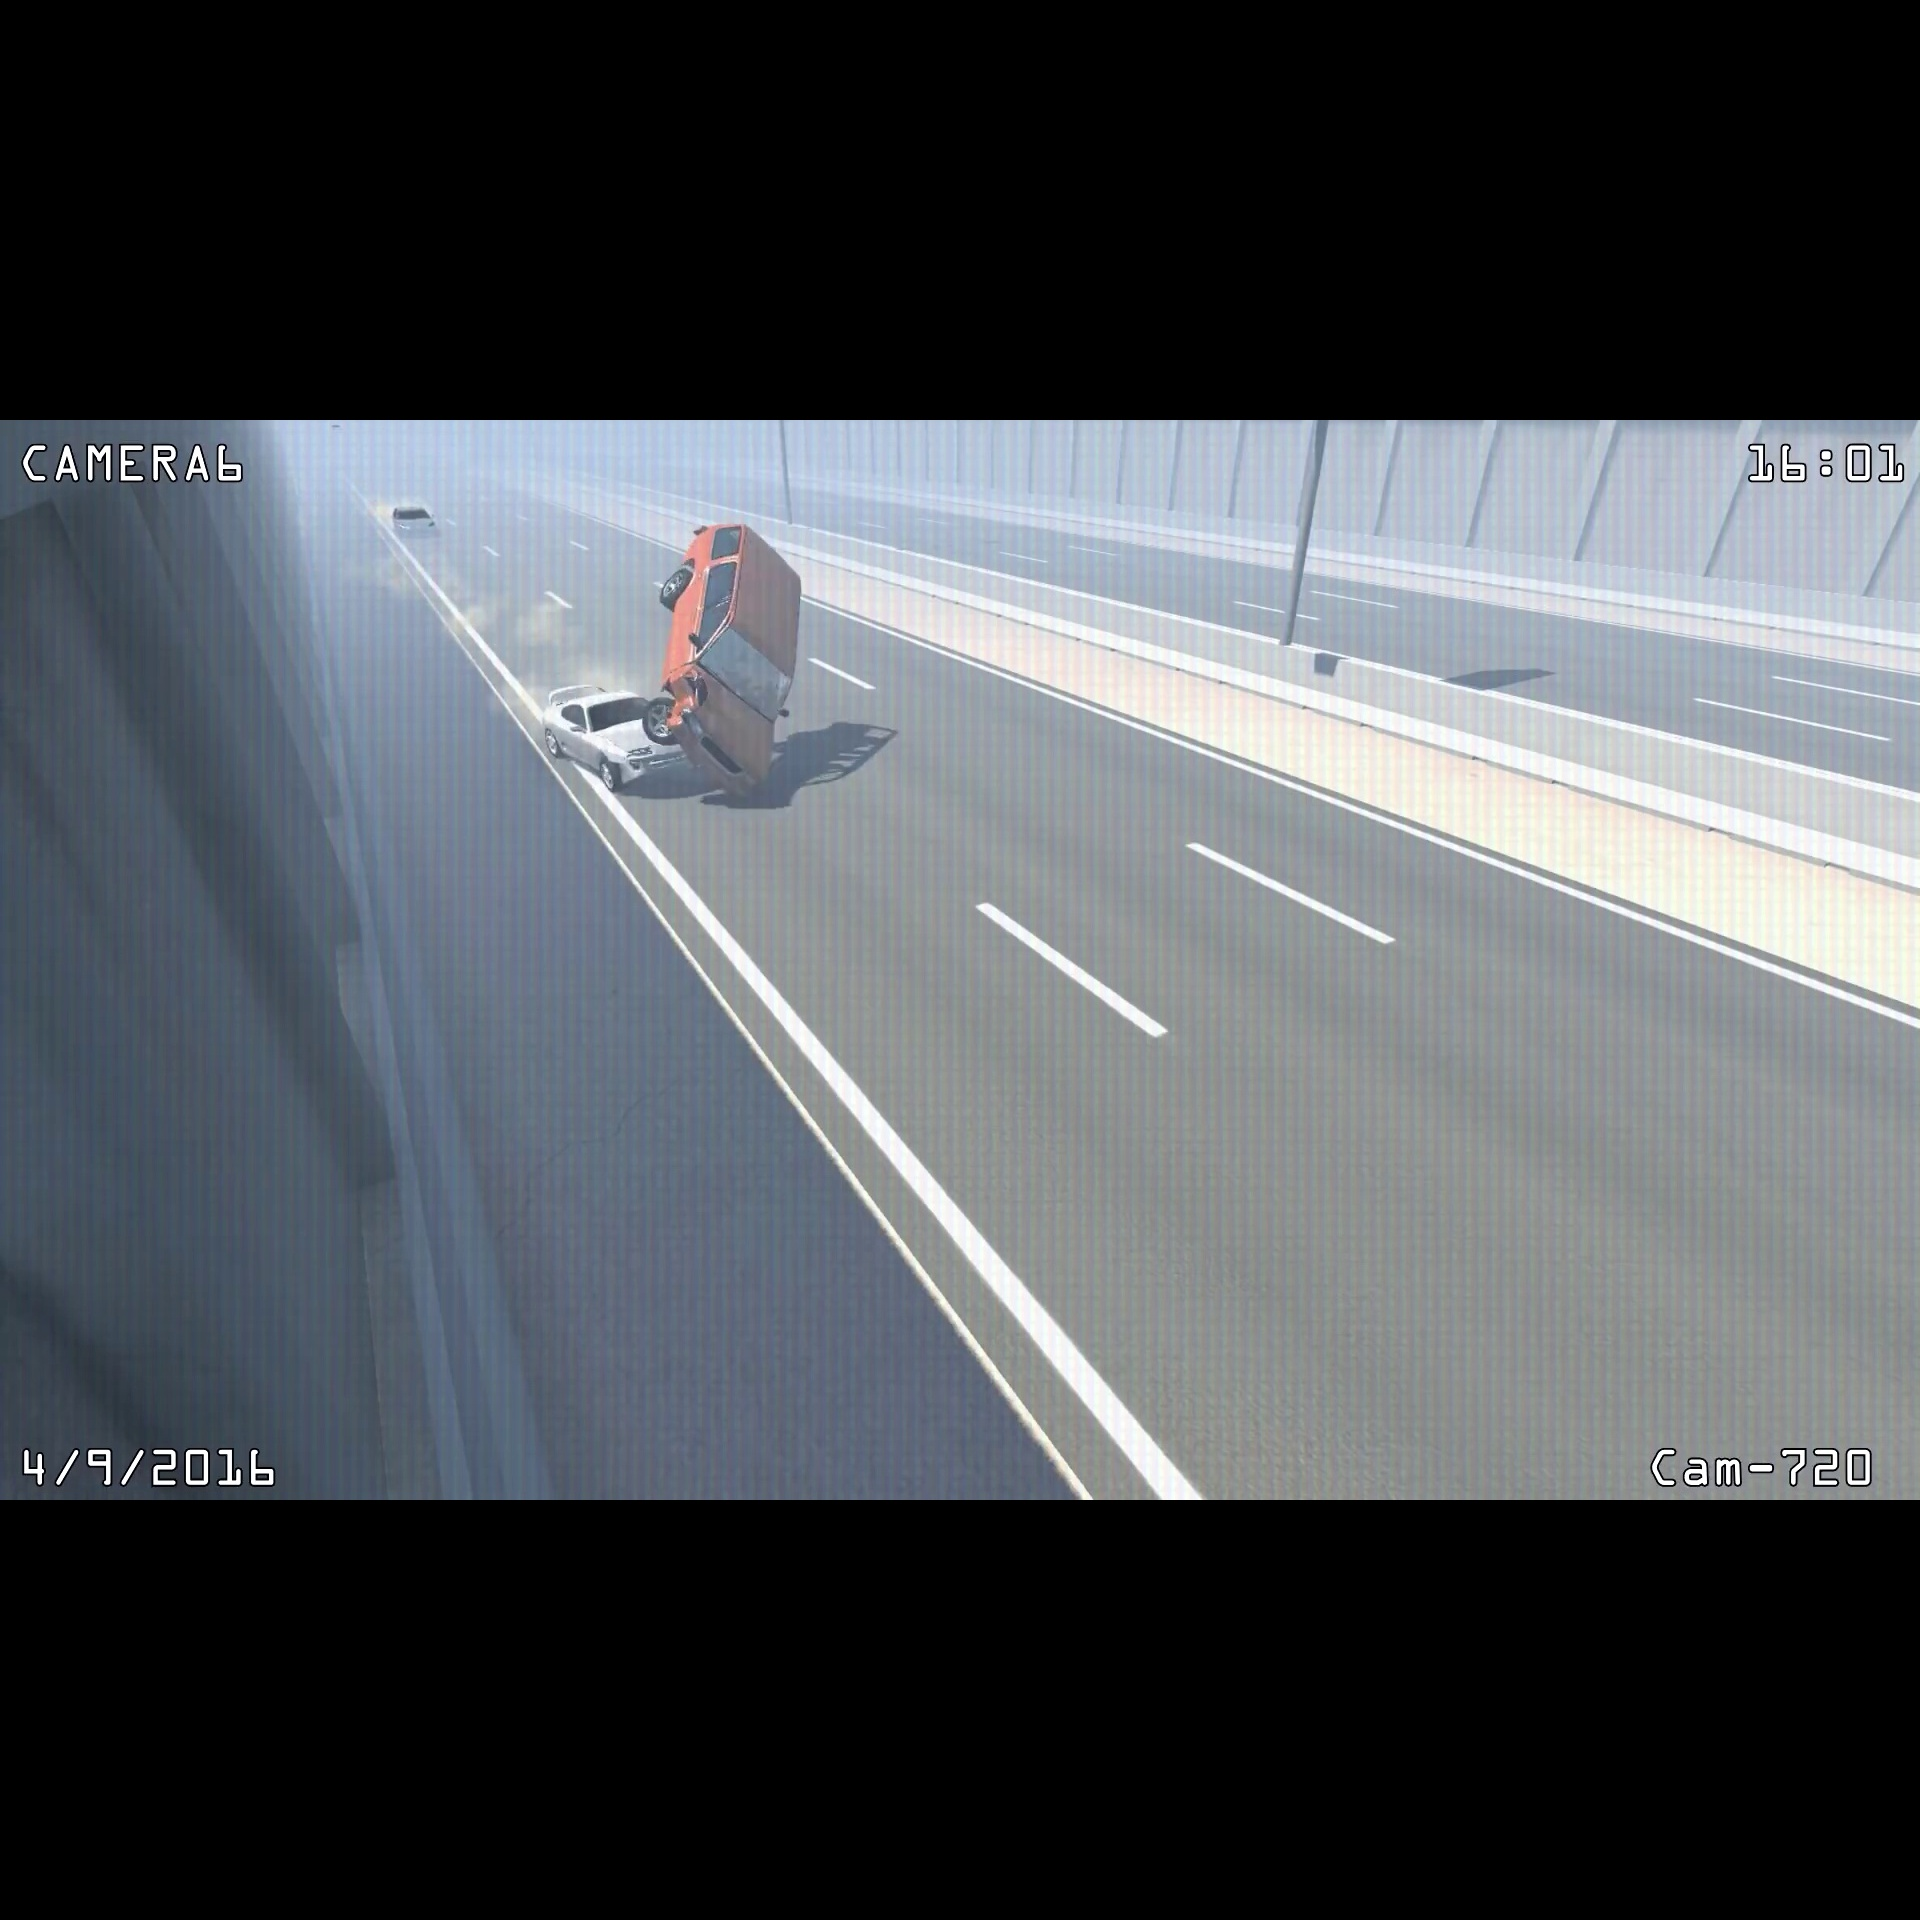vehicle: (635, 512, 811, 816), (535, 666, 695, 795), (387, 498, 441, 547)
